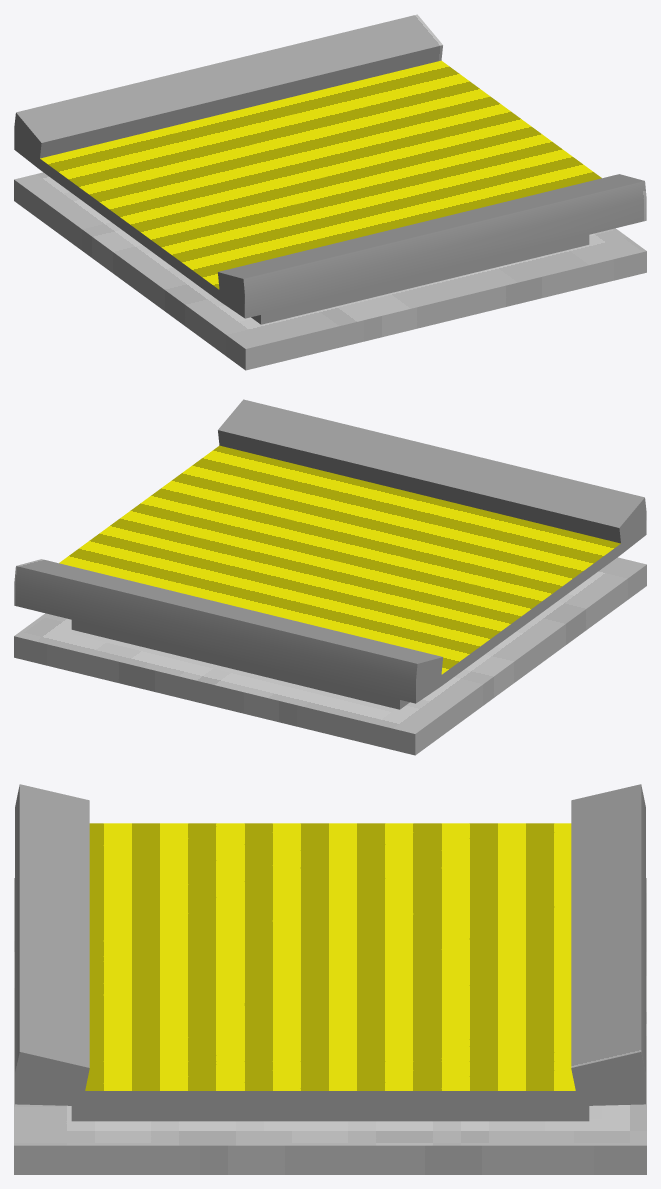
Rendered from solar_panel_advanced.obj.
3 views of the same model, one above another, from view 1: azimuth 30°, elevation 25°; view 2: azimuth 150°, elevation 25°; view 3: azimuth 270°, elevation 25° (orthographic). The views are drawn at different scales.
Parts seen in each view (by area): view 1: solarPanel; view 2: solarPanel; view 3: solarPanel.
Part boxes in pixels (x1,y1,x2,y2): solarPanel: (14,14,646,370); solarPanel: (14,399,646,755); solarPanel: (14,784,646,1174).
Bounding box in the file's own units: 1 × 0.2146 × 1.
